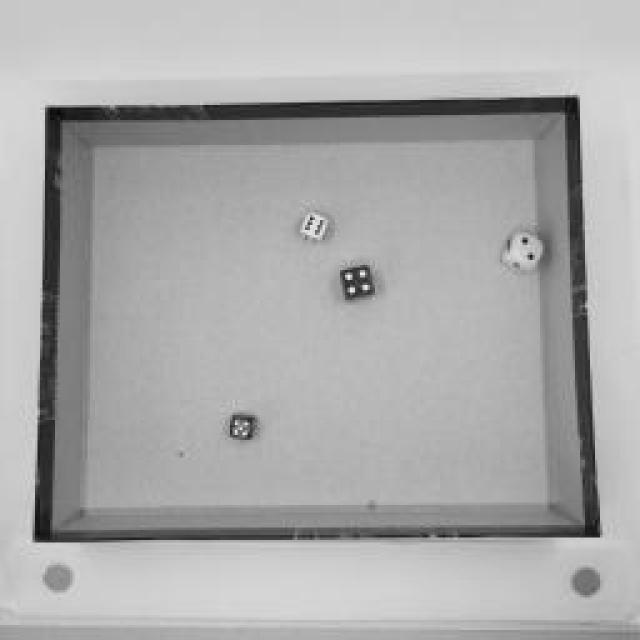dice_2: (500, 229, 545, 279)
dice_4: (339, 264, 381, 306)
dice_5: (230, 415, 258, 440)
dice_6: (298, 213, 330, 245)
